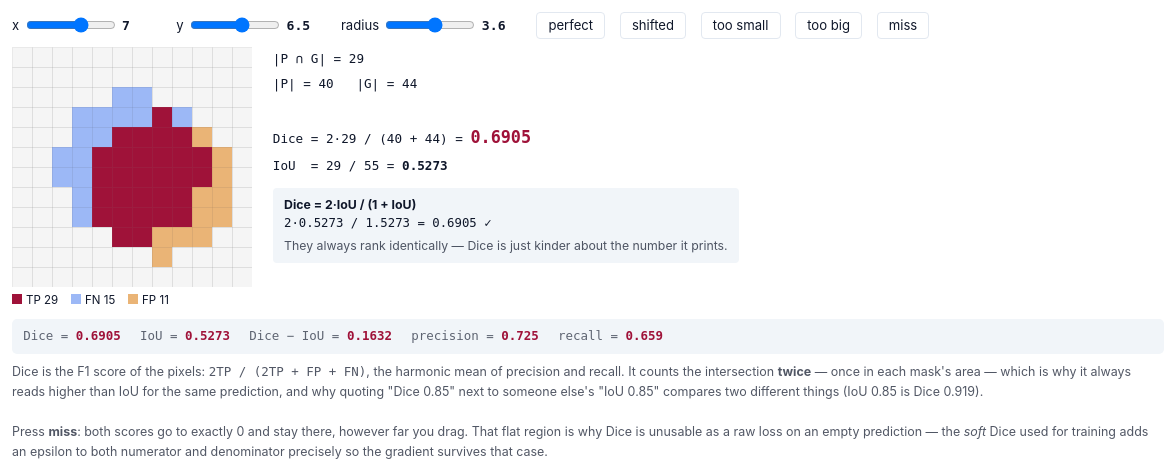
transfer-learning widgets › Dice widget reports Dice above IoU and the 2J/(1+J) identity
This screenshot has width=1164, height=476.
Click the button "perfect". click: coordinates (571, 25)
box: x1=536 y1=12 x2=605 y2=39
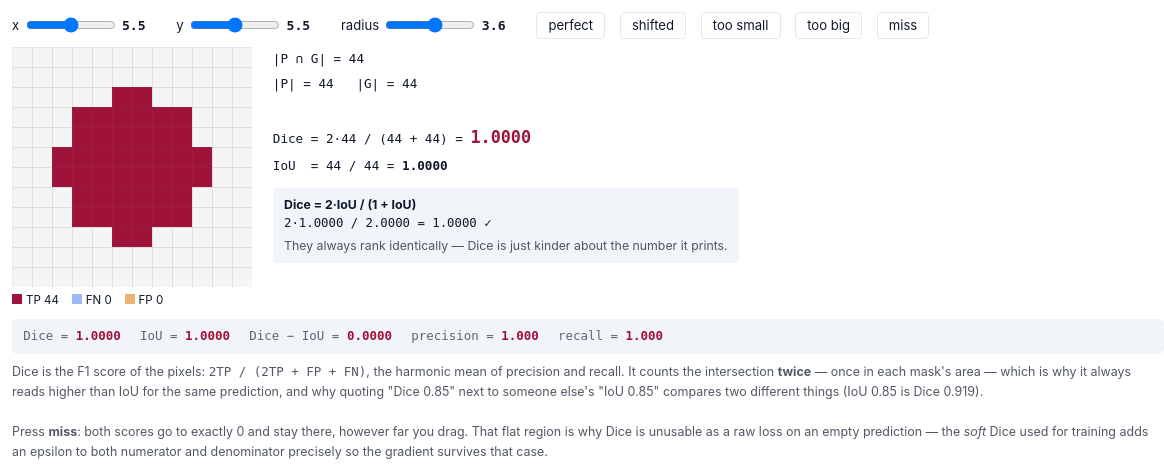
Expected: the text "1.0000" is shown, x1=470 y1=127 x2=531 y2=147
